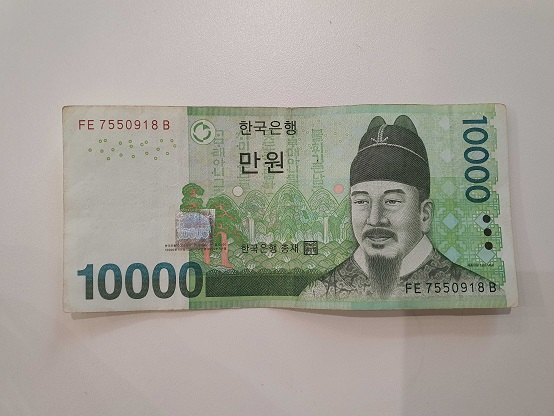10000won: (60, 102, 521, 316)
